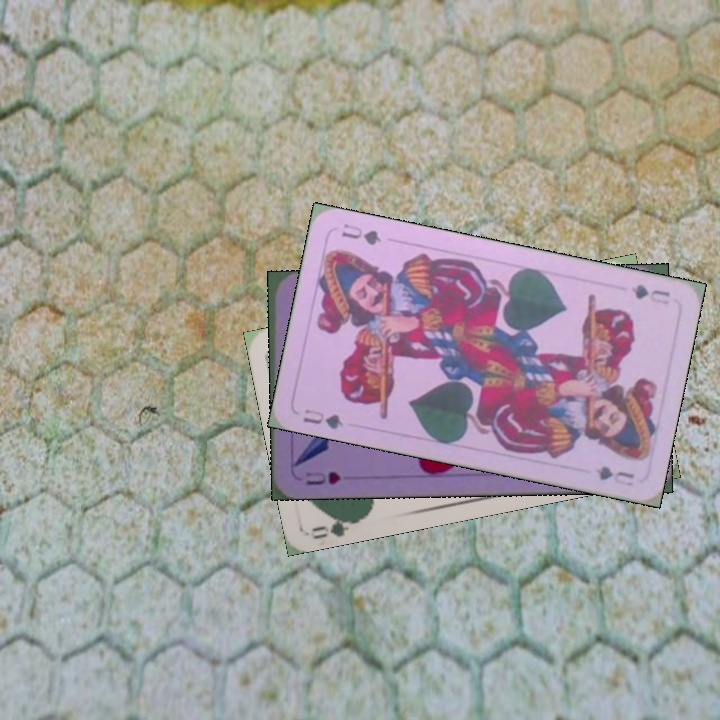GO: (308, 511, 366, 542)
GU: (299, 405, 346, 432), (627, 280, 673, 307)
HU: (301, 467, 343, 488)
